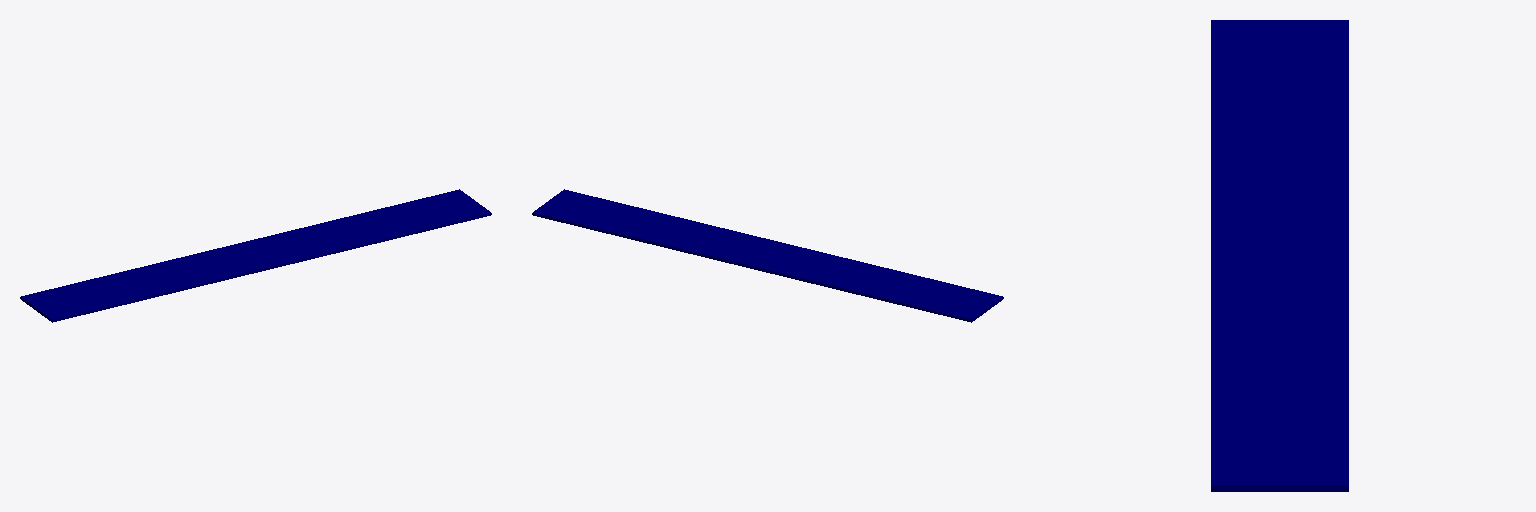
The robot description file, URDF, robot "wall":
<?xml version="0.0" ?>
<robot name="wall">
  <link name="planeLink">
  <contact>
      <lateral_friction value="1"/>
  </contact>
    <inertial>
      <origin rpy="0 0 0" xyz="0 0 0"/>
       <mass value=".0"/>
       <inertia ixx="0" ixy="0" ixz="0" iyy="0" iyz="0" izz="0"/>
    </inertial>
    <visual>
      <origin rpy="0 0 0" xyz="0 0 0"/>
      <geometry>
				<box size="16 2 0.1"/>
      </geometry>
       <material name="white">
        <color rgba="0 0 0.5 1"/>
       </material>
    </visual>
    <collision>
      <origin rpy="0 0 0" xyz="0 0 0"/>
      <geometry>
	 	<box size="16 2 0.1"/>
      </geometry>
    </collision>
  </link>
</robot>

--- What the picture shows (computed from the rendered views, not written in the file) ---
The picture shows the robot from 3 angles, left to right: view 1: azimuth 30°, elevation 25°; view 2: azimuth 150°, elevation 25°; view 3: azimuth 270°, elevation 25°; orthographic projection.
Robot: wall — 1 links, 0 joints (none); root link planeLink; default pose: every joint at zero.
Visible links, largest first — view 1: planeLink; view 2: planeLink; view 3: planeLink.
Link boxes in pixels (<box>): planeLink: <box>20,189,491,322</box>; planeLink: <box>532,189,1003,322</box>; planeLink: <box>1211,20,1348,491</box>.
Size in the robot's own frame: 16 by 2 by 0.1 metres.
Geometry: primitives only (box / cylinder / sphere), no mesh files.